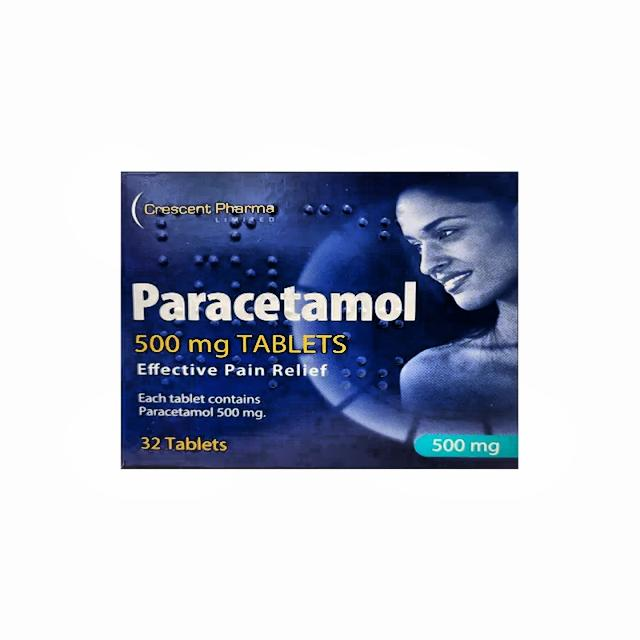Paracetamol: (124, 259, 440, 387)
